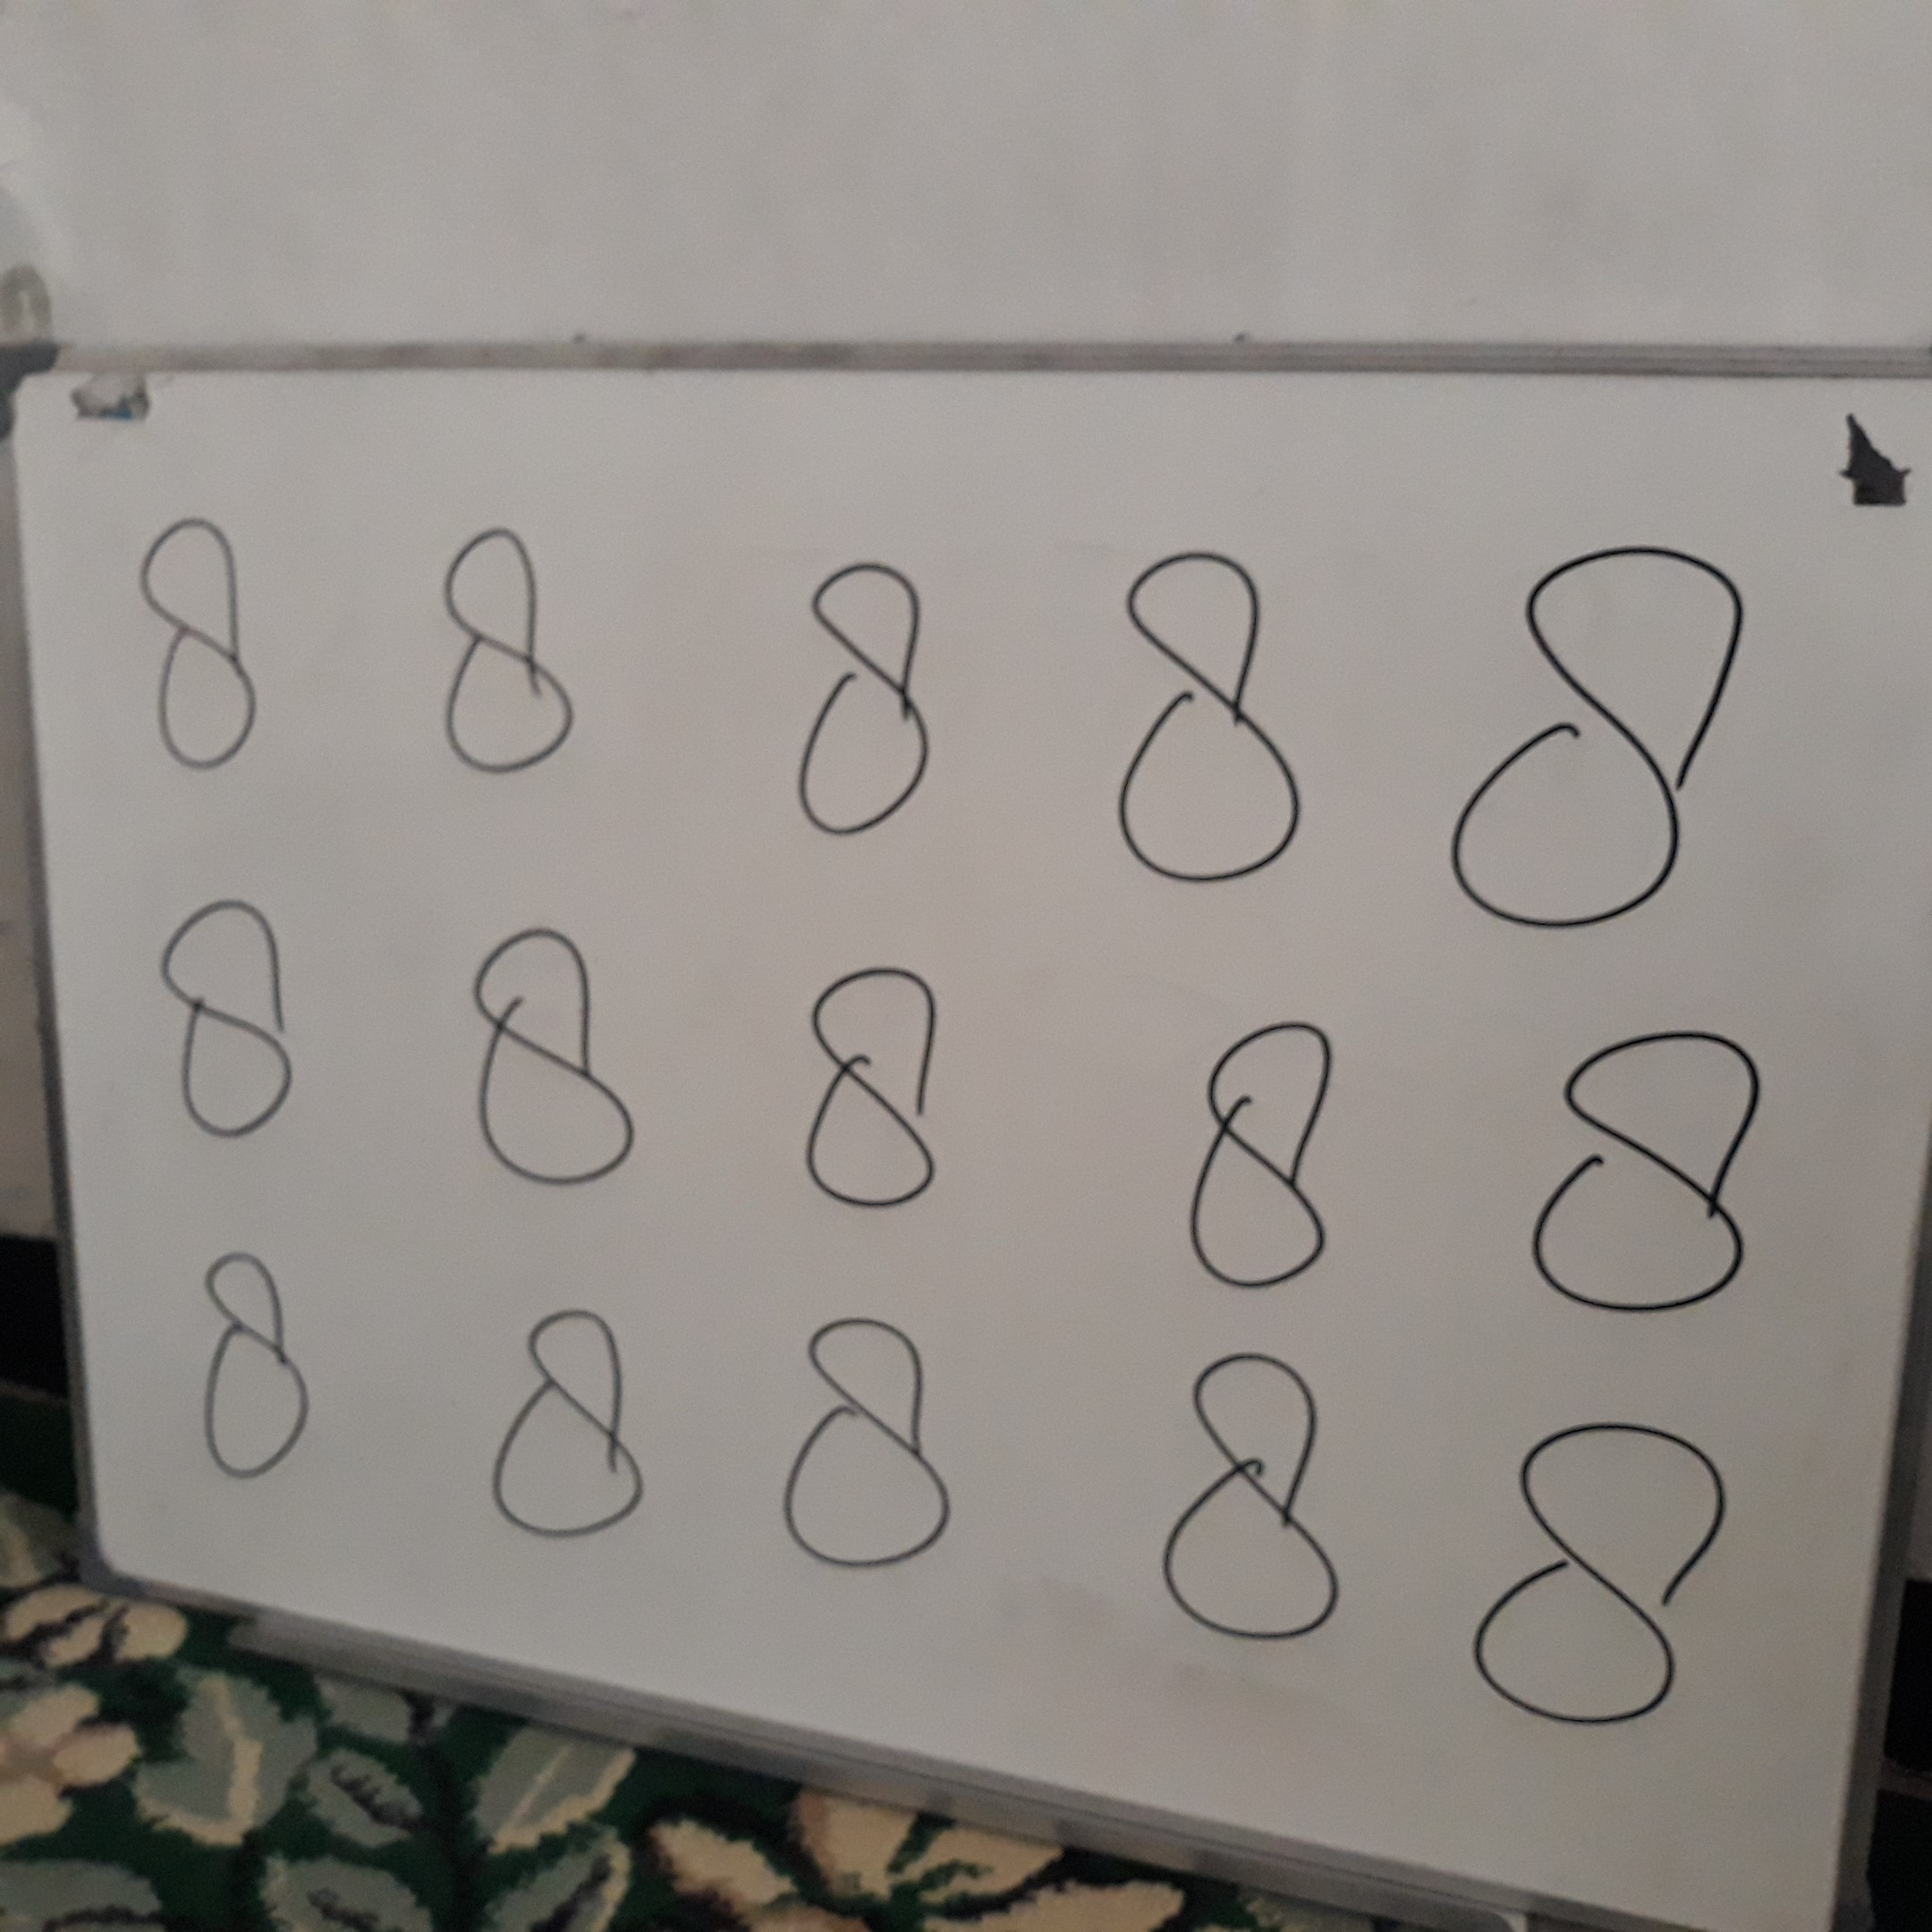num8: (1447, 521, 1757, 944), (1499, 1013, 1795, 1337), (1464, 1406, 1738, 1750), (1093, 532, 1322, 914), (439, 912, 670, 1208), (1167, 996, 1370, 1315), (1155, 1346, 1358, 1654), (769, 953, 981, 1241), (767, 1305, 974, 1583), (128, 886, 333, 1164), (476, 1296, 661, 1557), (785, 556, 944, 854), (121, 502, 283, 787), (420, 517, 590, 784), (171, 1234, 342, 1503)
